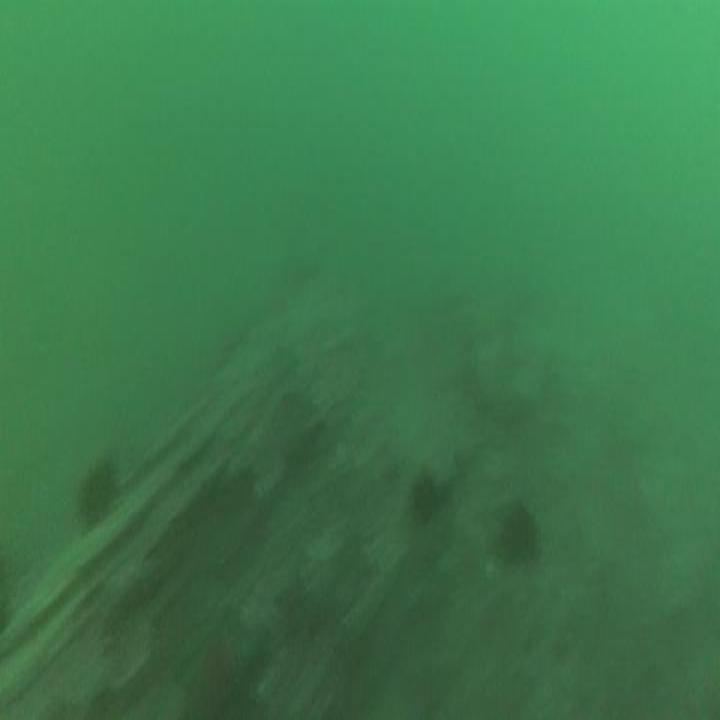echinus: (492, 496, 535, 564), (77, 461, 112, 522), (408, 464, 440, 517)
starfish: (169, 608, 264, 718)
